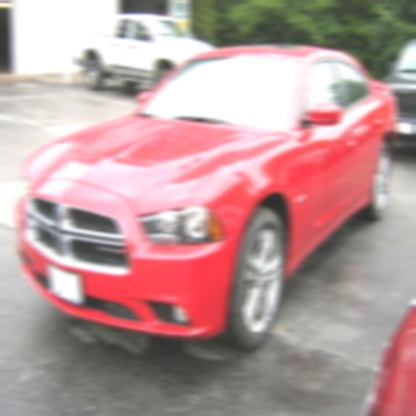Vehicle: (13, 40, 400, 354)
